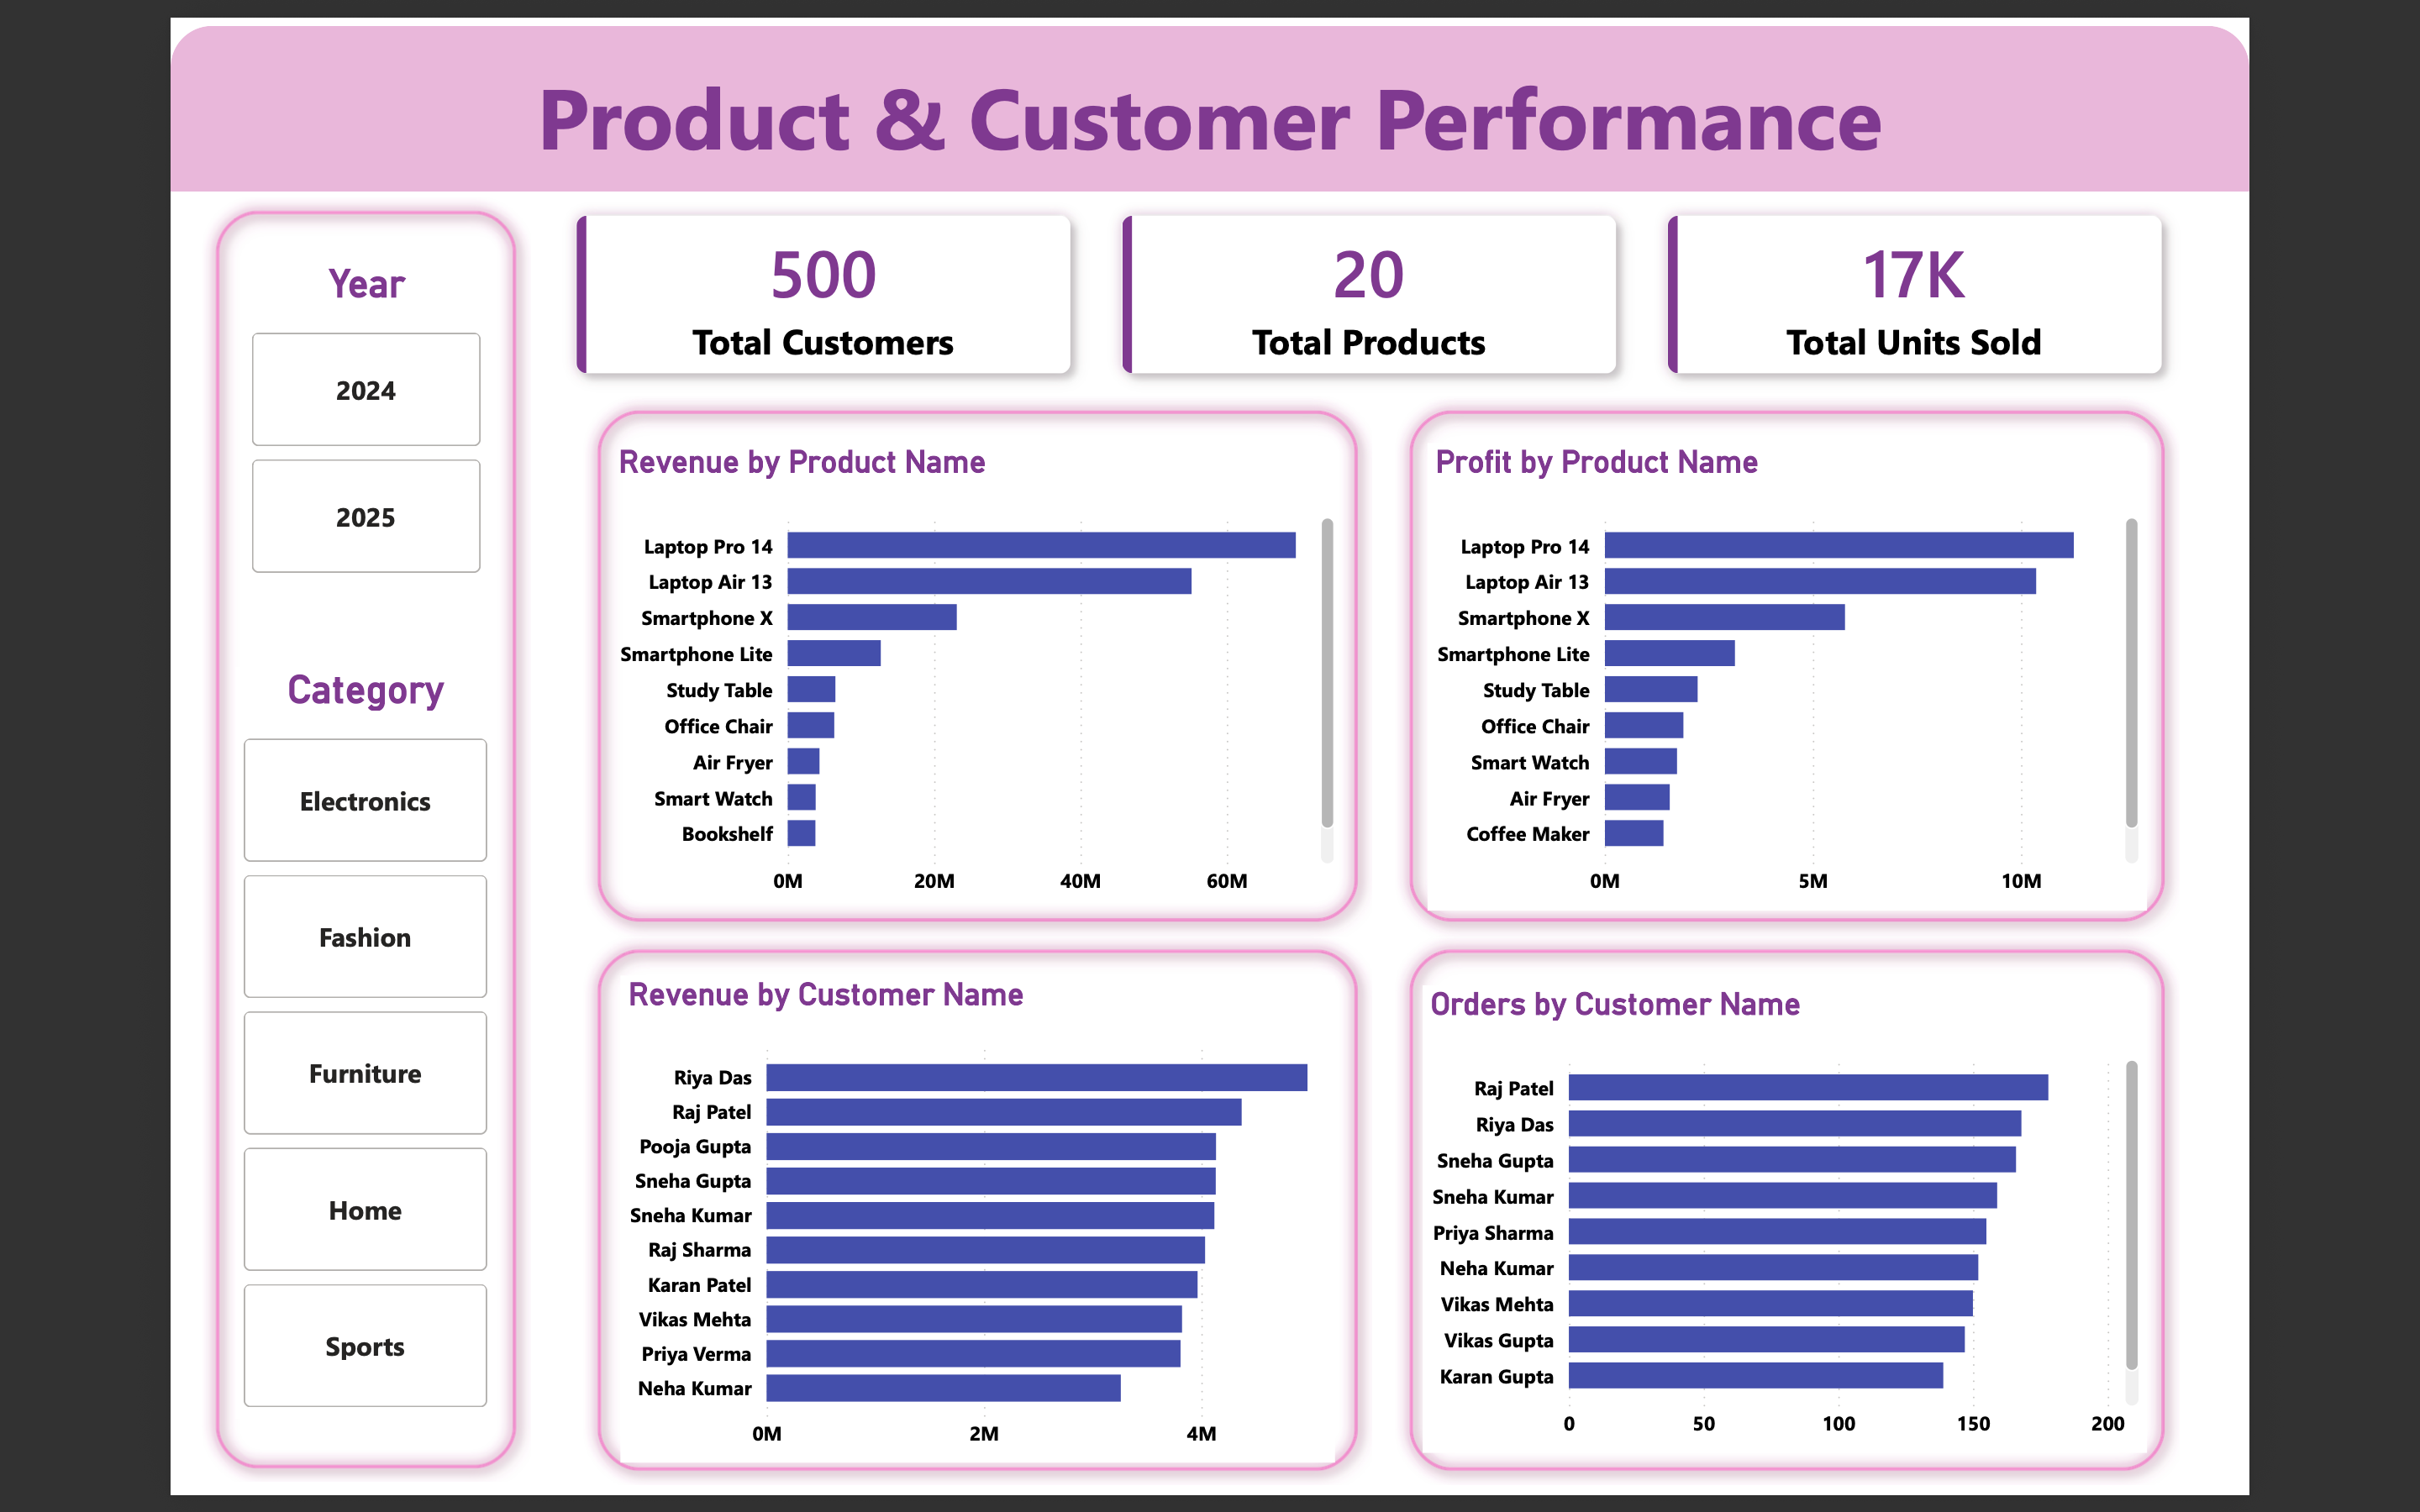

The page's visual inventory and layout, read from the dashboard file:
{"tool":"powerbi","page":{"name":"Product & Customer Analysis","canvas":[1280,900],"ordinal":1},"visuals":[{"type":"cardVisual","fields":{"Data":["Count(Sheet1.Customer_ID)","Count(Sheet1.Product_ID)","Sum(Sheet1.Quantity)"]},"box":[221.4,87.8,1036.3,155.9],"z":0},{"type":"shape","box":[753.8,227.5,482.9,332.8],"z":5},{"type":"shape","box":[253.8,560.3,486,339],"z":6},{"type":"shape","box":[253.8,227.5,486,332.8],"z":7},{"type":"shape","box":[18.6,105.2,202.8,792.5],"z":8},{"type":"shape","box":[753.8,560.3,482.9,339],"z":9},{"type":"shape","box":[0,0,1280,102.2],"z":10},{"type":"advancedSlicerVisual","fields":{"Values":["Sheet1.Year"]},"box":[44.9,145.5,151.7,196.6],"z":11},{"type":"advancedSlicerVisual","fields":{"Values":["Sheet1.Category"]},"box":[40.2,394.7,161,462.8],"z":12},{"type":"clusteredBarChart","fields":{"Category":["Sheet1.Product_Name"],"Y":["Sum(Sheet1.Revenue)"]},"box":[270.9,256.9,450.4,287.9],"z":13},{"type":"clusteredBarChart","fields":{"Category":["Sheet1.Product_Name"],"Y":["Sum(Sheet1.Profit)"]},"box":[773.9,256.9,442.7,287.9],"z":14},{"type":"clusteredBarChart","fields":{"Category":["Sheet1.Customer_Name"],"Y":["Count(Sheet1.Order_ID)"]},"box":[770.8,591.2,445.8,287.9],"z":15},{"type":"clusteredBarChart","fields":{"Category":["Sheet1.Customer_Name"],"Y":["Sum(Sheet1.Revenue)"]},"box":[277,585.1,439.6,300.3],"z":16}]}

Visuals, with their boxes on the page's 1280x900 design canvas (x1, y1, x2, y2). These are canvas units, not pixel positions in the 2420x1512 screenshot, which may show the page scaled, cropped or inside an application window:
cardVisual - Count(Sheet1.Customer_ID) x Count(Sheet1.Product_ID): (x1=221, y1=88, x2=1258, y2=244)
shape: (x1=754, y1=228, x2=1237, y2=560)
shape: (x1=254, y1=560, x2=740, y2=899)
shape: (x1=254, y1=228, x2=740, y2=560)
shape: (x1=19, y1=105, x2=221, y2=898)
shape: (x1=754, y1=560, x2=1237, y2=899)
shape: (x1=0, y1=0, x2=1280, y2=102)
advancedSlicerVisual - Sheet1.Year: (x1=45, y1=146, x2=197, y2=342)
advancedSlicerVisual - Sheet1.Category: (x1=40, y1=395, x2=201, y2=858)
clusteredBarChart - Sheet1.Product_Name x Sum(Sheet1.Revenue): (x1=271, y1=257, x2=721, y2=545)
clusteredBarChart - Sheet1.Product_Name x Sum(Sheet1.Profit): (x1=774, y1=257, x2=1217, y2=545)
clusteredBarChart - Sheet1.Customer_Name x Count(Sheet1.Order_ID): (x1=771, y1=591, x2=1217, y2=879)
clusteredBarChart - Sheet1.Customer_Name x Sum(Sheet1.Revenue): (x1=277, y1=585, x2=717, y2=885)
